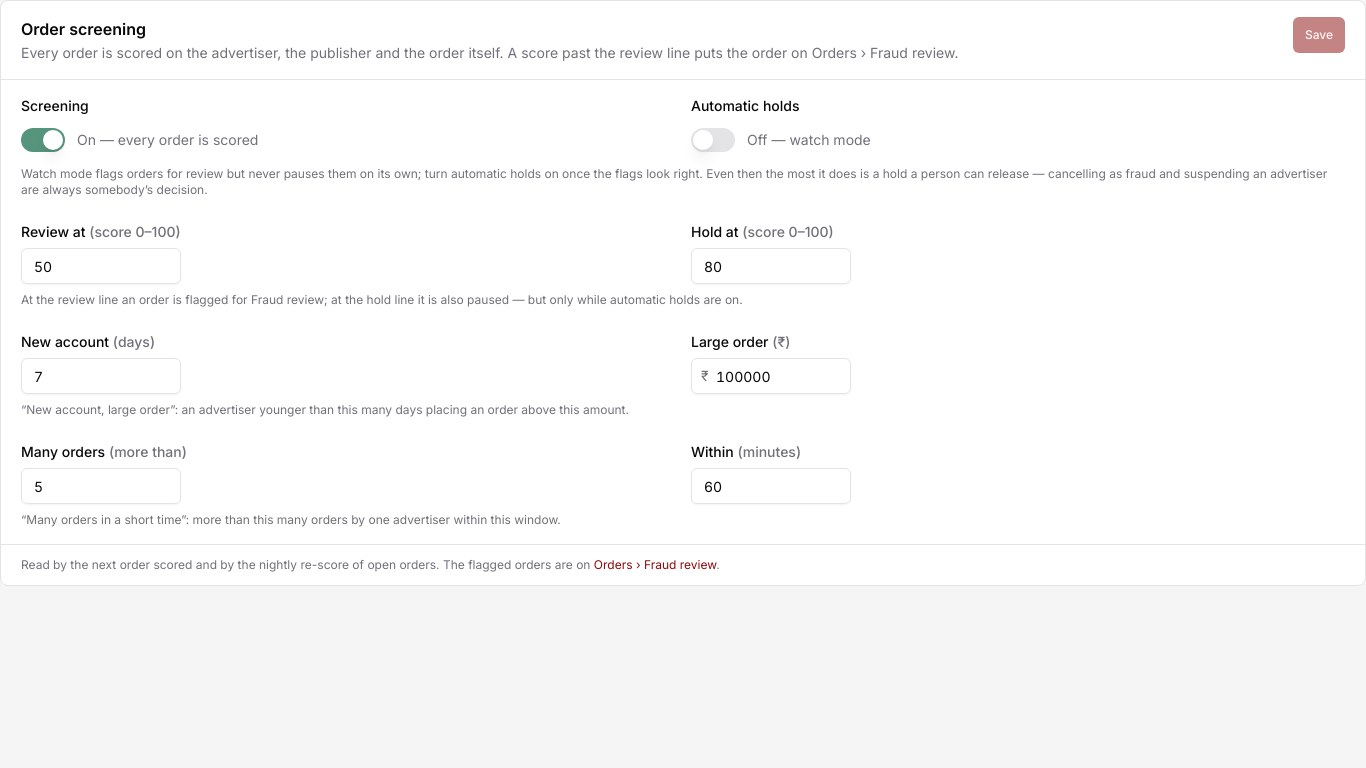
Settings › Fraud › refuses a hold line under the review line, with one line under the row
The width and height of the screenshot is (1366, 768).
Replace the text in the field labelled "Review at (score 0–100)" with "90" at (101, 266), box [21, 248, 181, 284]
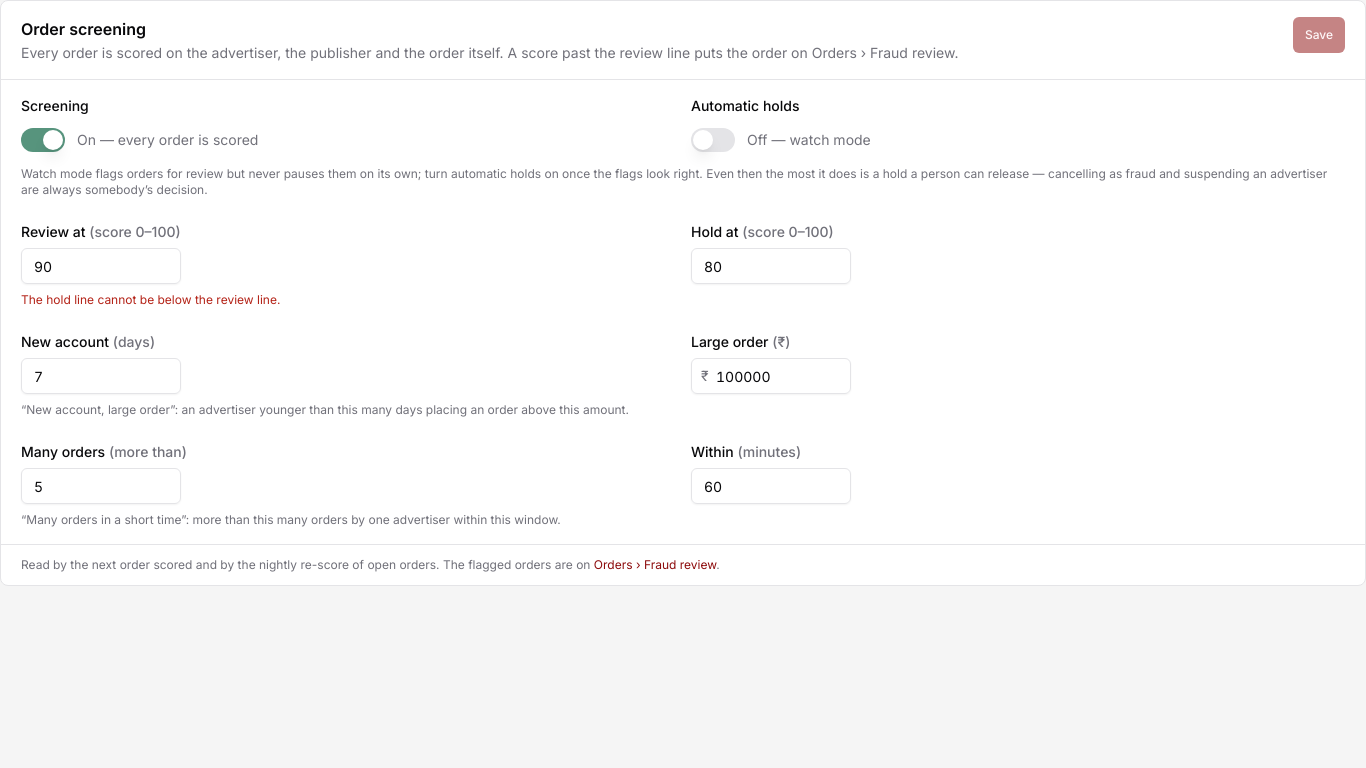
Expected: the button "Save" is disabled, [1293, 17, 1345, 53]
Now the text "The hold line cannot be below the review line." is shown, box [21, 292, 280, 307]
